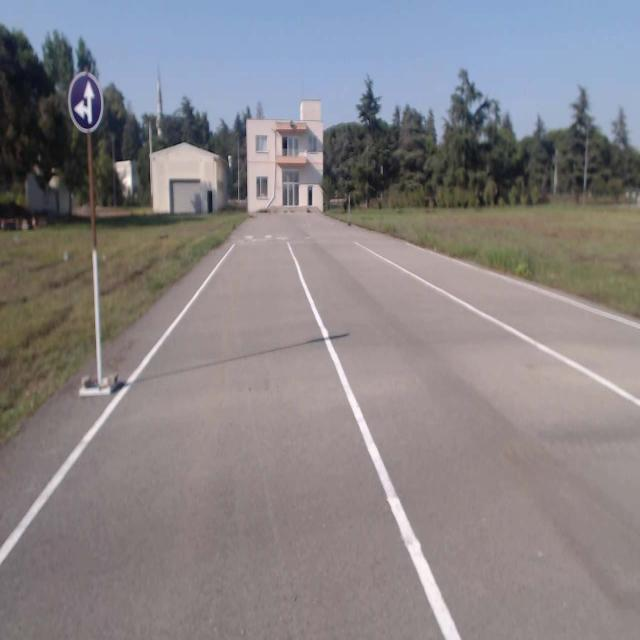ilerisol: (67, 72, 103, 132)
